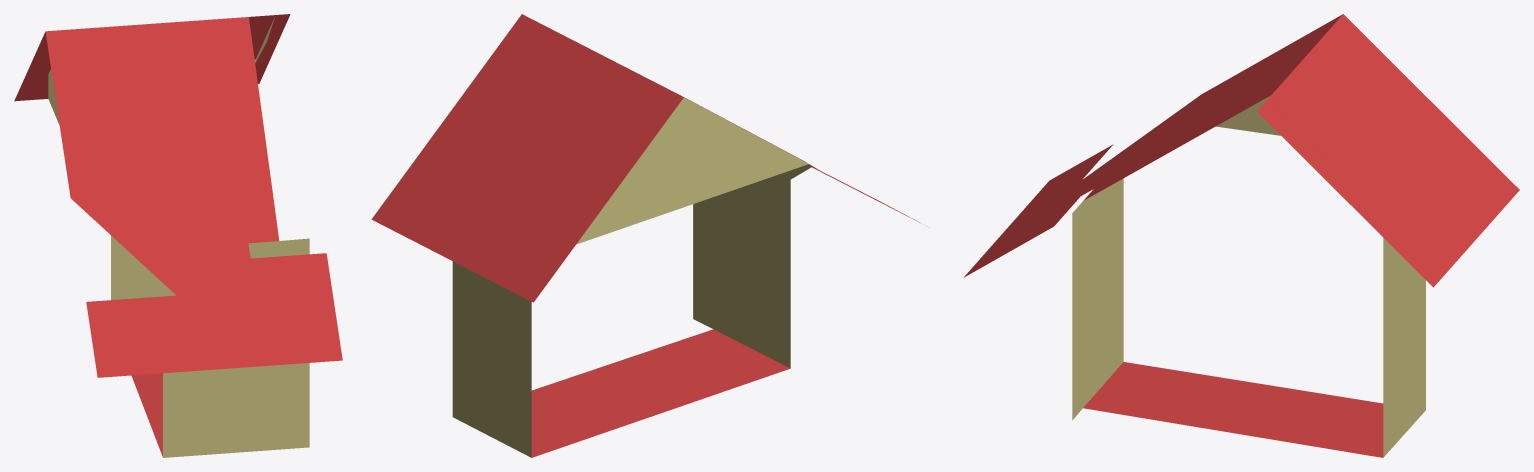
3 views of the same model, side by side, from view 1: azimuth 30°, elevation 25°; view 2: azimuth 150°, elevation 25°; view 3: azimuth 270°, elevation 25° (orthographic). The views are drawn at different scales.
Bounding box in the file's own units: 16.14 × 22.09 × 15.08.
